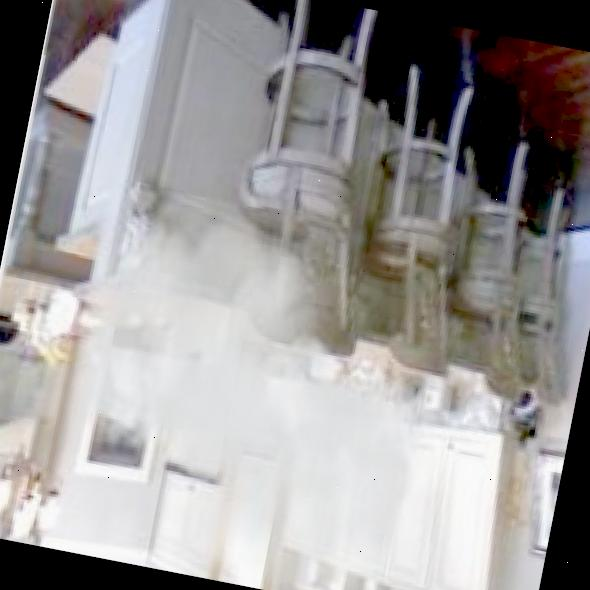smoke: (36, 178, 474, 590)
